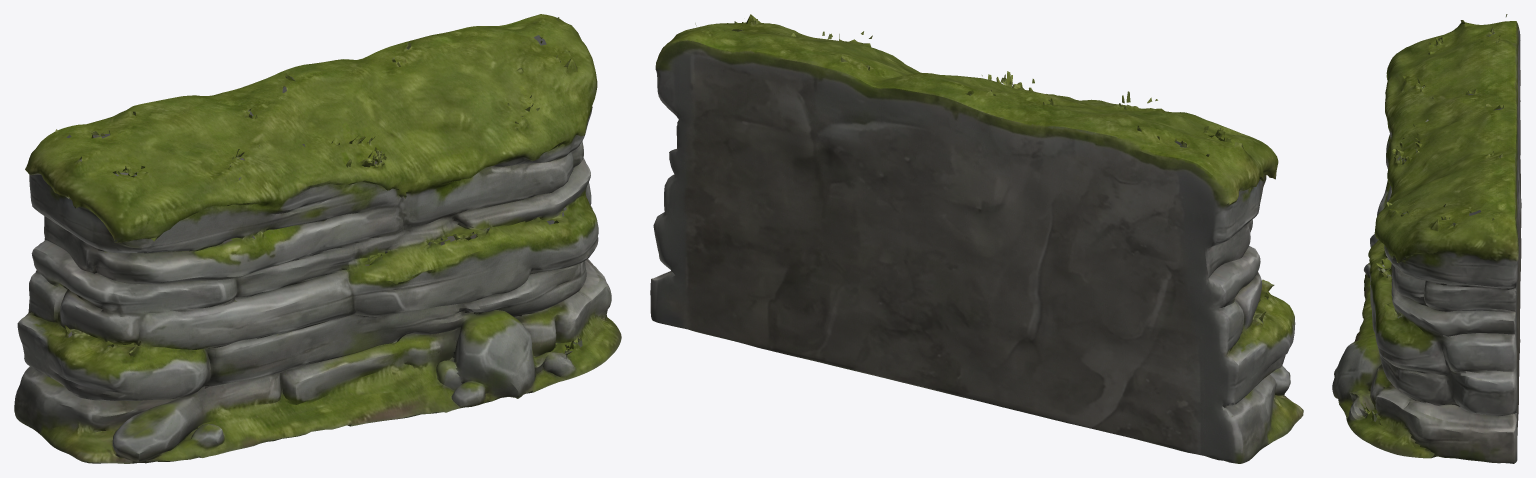
File: meadows_cliff_a.glb
3 renders of one model, left to right at view 1: azimuth 30°, elevation 25°; view 2: azimuth 150°, elevation 25°; view 3: azimuth 270°, elevation 25°, orthographic. The views are drawn at different scales.
Parts seen in each view (by area): view 1: Mesh_0; view 2: Mesh_0; view 3: Mesh_0.
Boxes of the visible parts, bbox=[...] form: Mesh_0: bbox=[14, 14, 621, 463]; Mesh_0: bbox=[650, 14, 1303, 463]; Mesh_0: bbox=[1332, 14, 1521, 463].
Bounding box in the file's own units: 1.9 × 0.9267 × 0.6607.
1 material, 1 textured.
